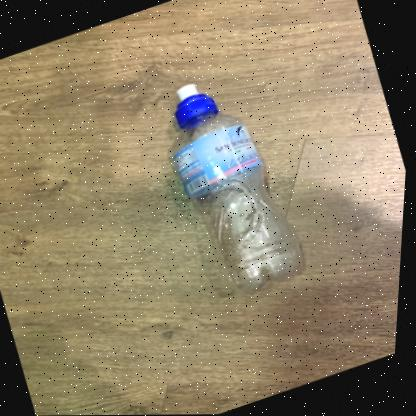Plastic: (171, 85, 306, 292)
